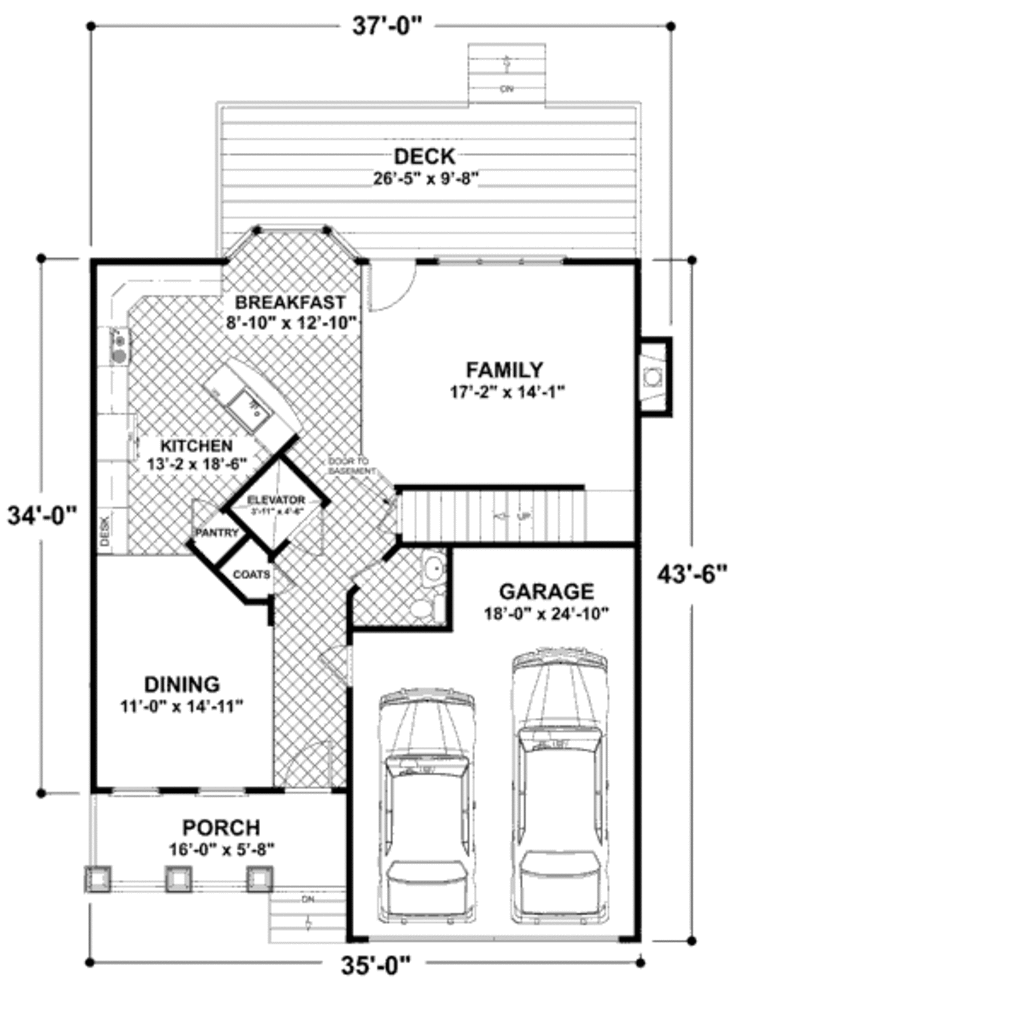door: (353, 247, 423, 317), (280, 486, 338, 560), (280, 728, 345, 789), (308, 641, 366, 685), (188, 488, 216, 544)
large_sink: (403, 577, 463, 636)
sink: (220, 366, 316, 446)
small_sink: (402, 555, 452, 588)
stairs: (383, 478, 647, 553)
window: (431, 236, 584, 267), (191, 778, 258, 811), (94, 778, 169, 802)
